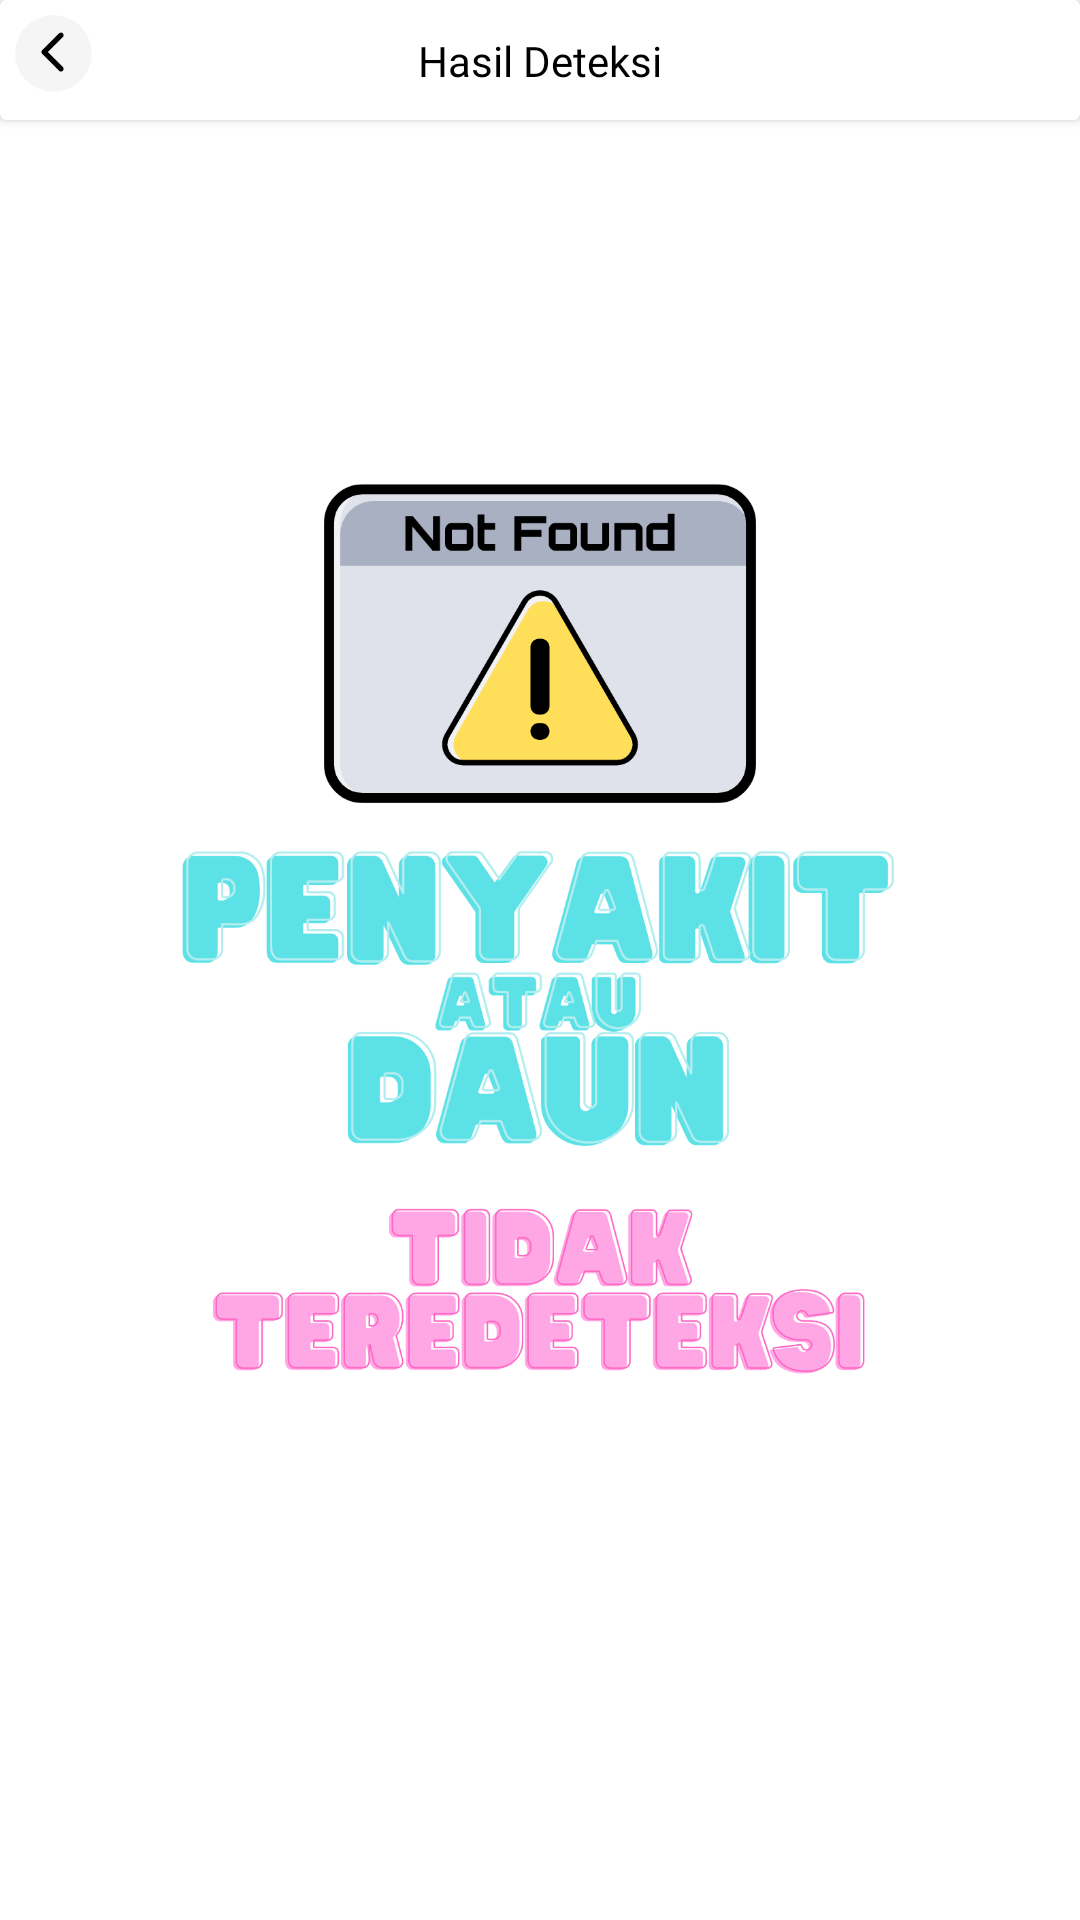

Locate icon controls on the screen. Image size 1080w x 1920h, boxes as {"x1": x1, "y1": y1, "x2": x2, "y2": y2}.
back: {"x1": 0, "y1": 1, "x2": 64, "y2": 120}
